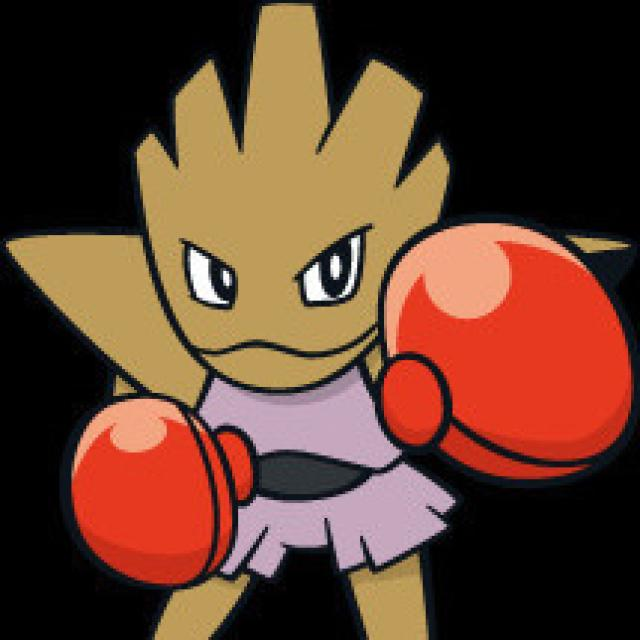Hitmonchan: (108, 50, 504, 640)
